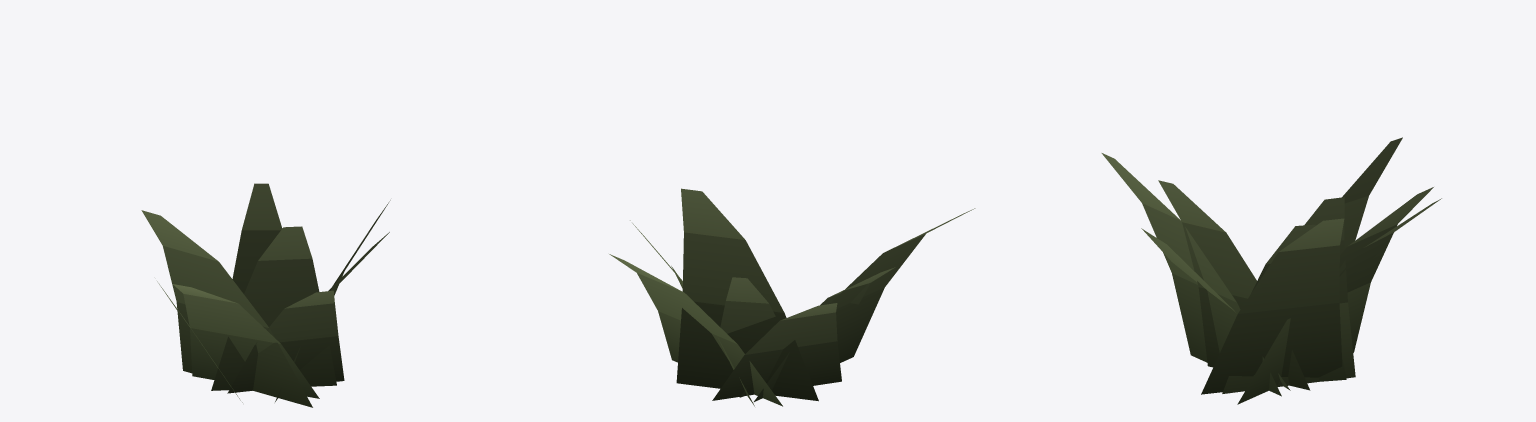
File: gras_blatt.glb
3 views of the same model, side by side, from view 1: azimuth 30°, elevation 25°; view 2: azimuth 150°, elevation 25°; view 3: azimuth 270°, elevation 25° (orthographic). The views are drawn at different scales.
Parts seen in each view (by area): view 1: gras_blatt; view 2: gras_blatt; view 3: gras_blatt.
Part boxes in pixels (bbox=[...]): gras_blatt: bbox=[141, 183, 390, 407]; gras_blatt: bbox=[609, 188, 975, 406]; gras_blatt: bbox=[1101, 137, 1441, 404].
Size of the model in its own units: 1.04 by 0.6201 by 0.9172.
